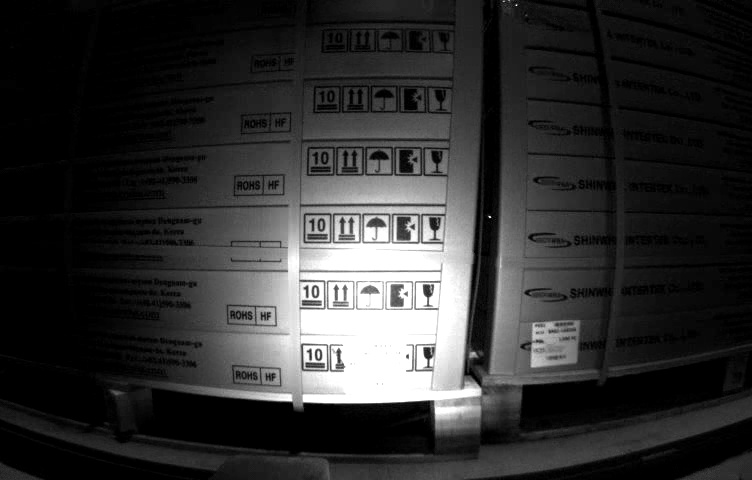True Barcode: (342, 341, 407, 390), (533, 321, 576, 365)
